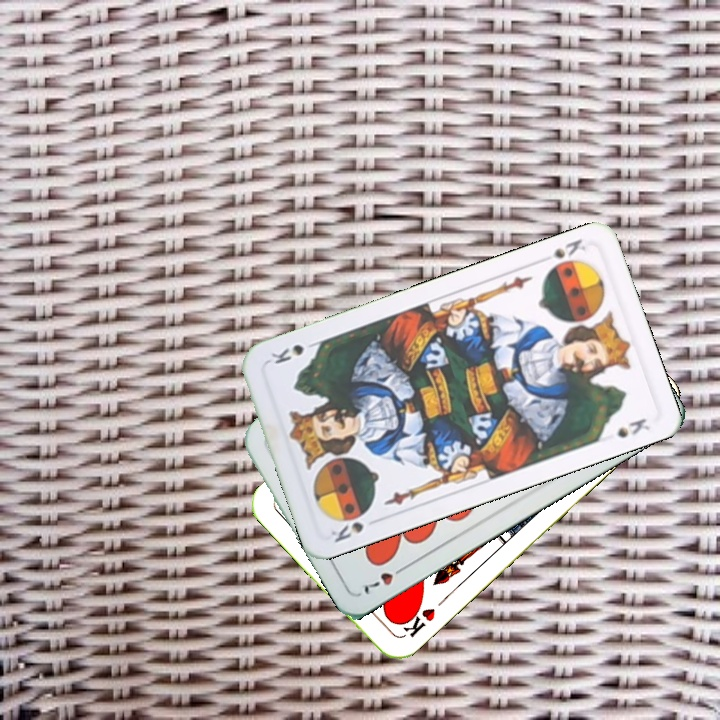H7: (356, 560, 411, 598)
HK: (395, 599, 438, 640)
SK: (535, 234, 588, 274), (326, 514, 383, 545)
